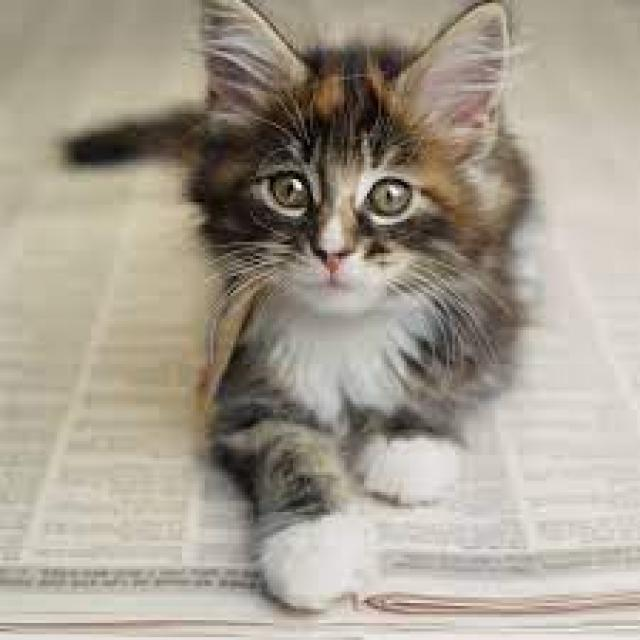Cat: (61, 5, 530, 615)
